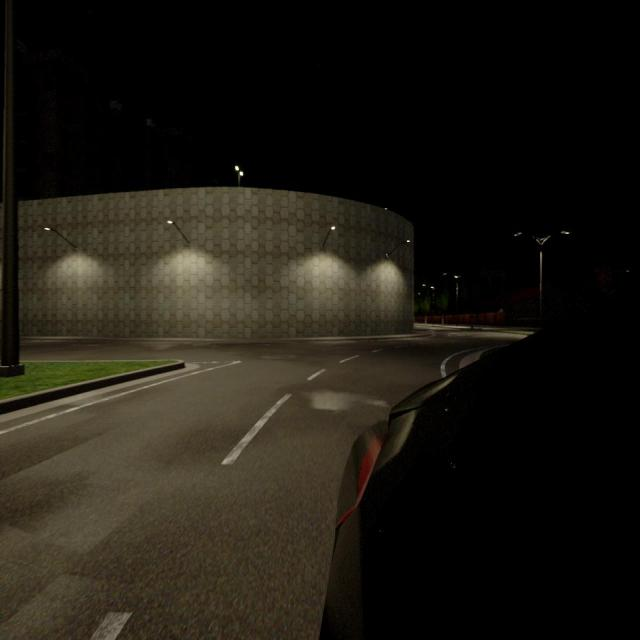Vehicle: (320, 309, 640, 638)
